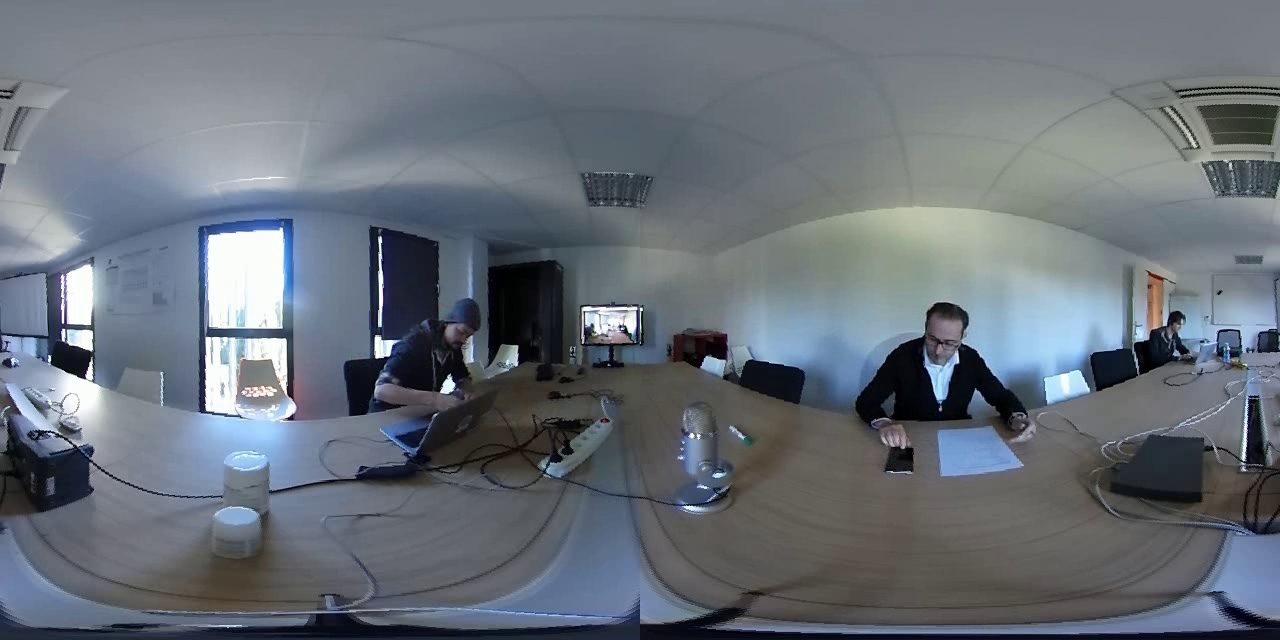person: (873, 291, 994, 422), (385, 295, 488, 401), (1143, 298, 1198, 359)
